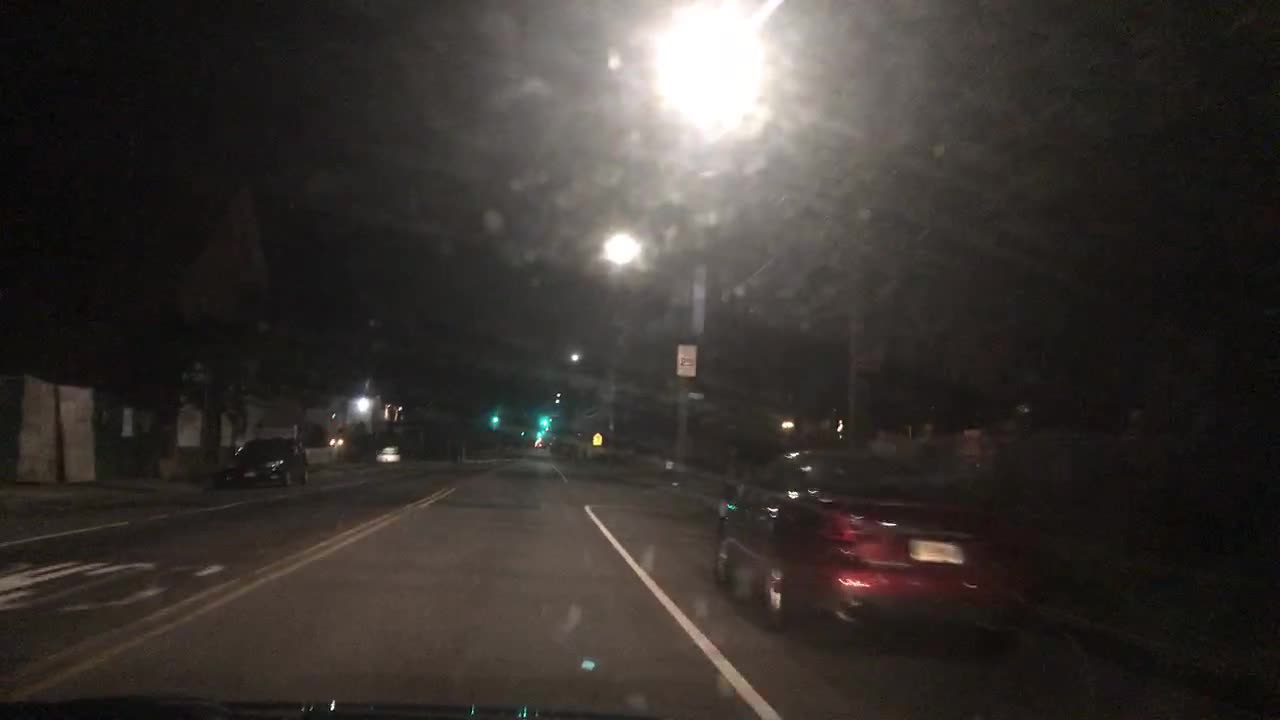car: (708, 441, 1038, 658), (216, 434, 312, 490), (372, 442, 402, 463), (529, 439, 546, 450)
motor: (328, 437, 350, 459)
rider: (330, 425, 342, 442)
traffic light: (490, 412, 499, 424), (540, 414, 548, 425), (536, 430, 543, 438)
traffic sign: (676, 343, 697, 377), (593, 431, 602, 447)
